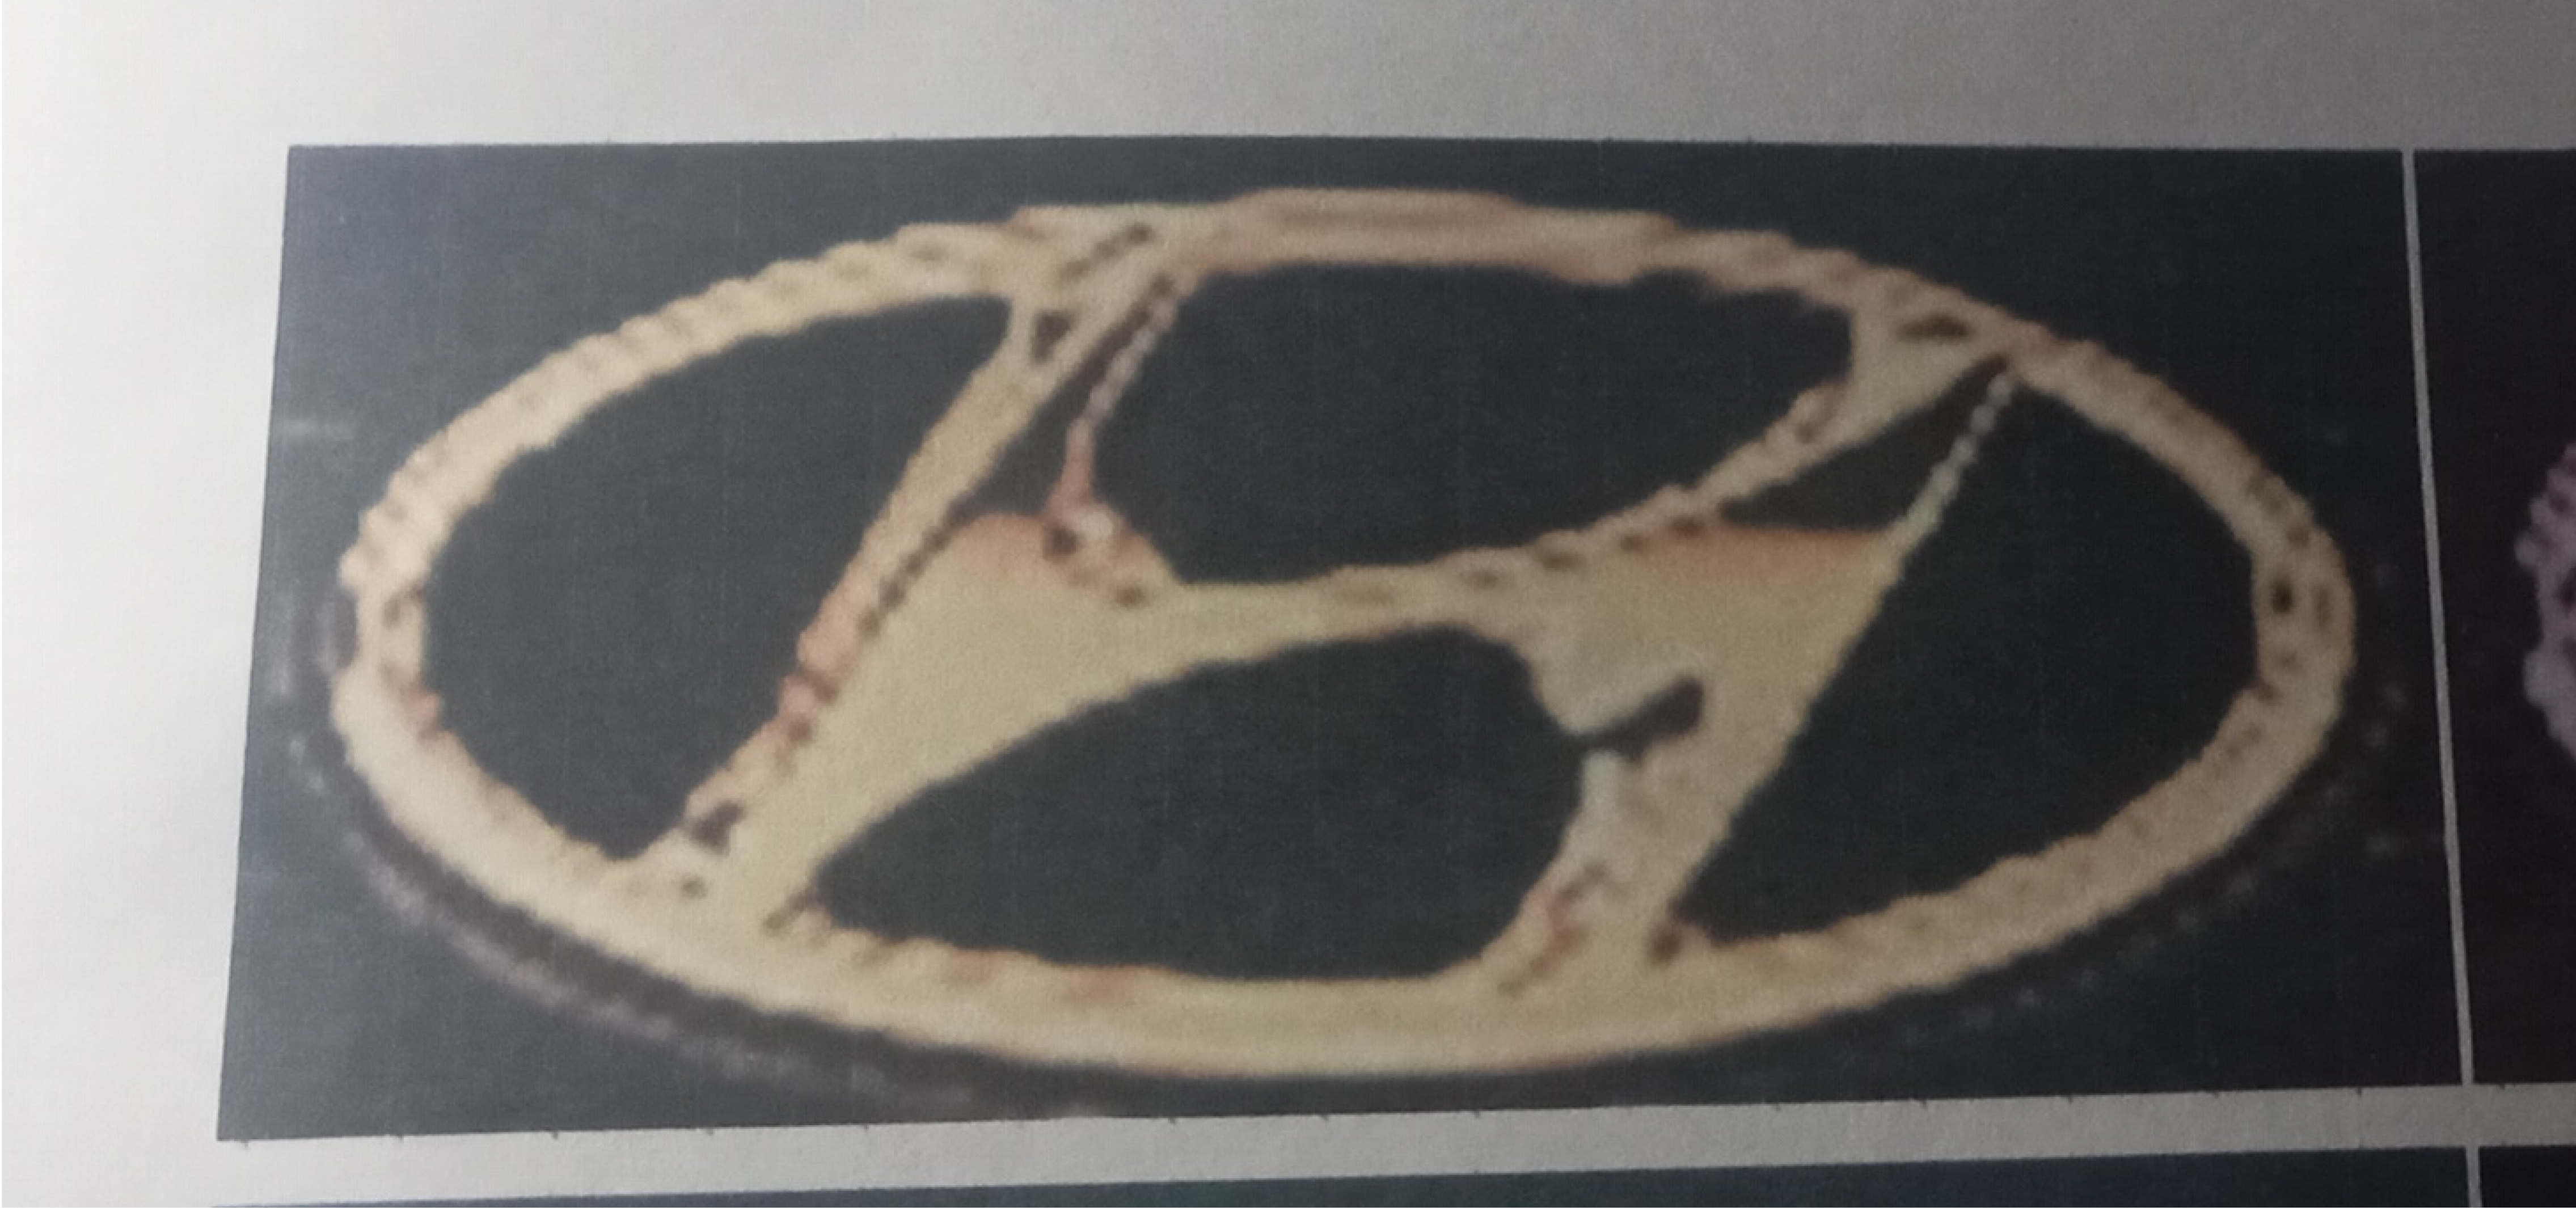Hyundai: (166, 95, 2466, 1165)
